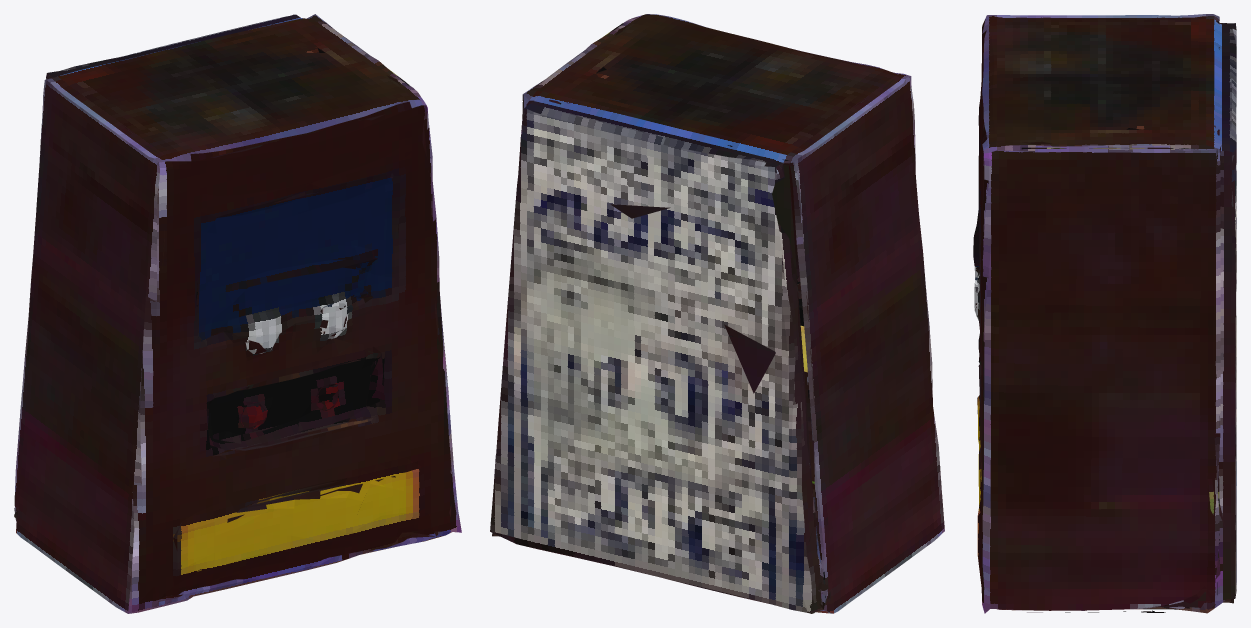
File: Arcade_CartSwitcher_QuadRetro.glb
3 views of the same model, side by side, from view 1: azimuth 30°, elevation 25°; view 2: azimuth 150°, elevation 25°; view 3: azimuth 270°, elevation 25° (orthographic).
Parts seen in each view (by area): view 1: Arcade_CartSwitcher_QuadRemesh; view 2: Arcade_CartSwitcher_QuadRemesh; view 3: Arcade_CartSwitcher_QuadRemesh.
Boxes of the visible parts, <box> form: Arcade_CartSwitcher_QuadRemesh: <box>14,14,461,613</box>; Arcade_CartSwitcher_QuadRemesh: <box>490,14,944,613</box>; Arcade_CartSwitcher_QuadRemesh: <box>973,14,1236,613</box>.
Bounding box in the file's own units: 1.57 × 2 × 1.05.
Materials: 1 (1 with a texture image).
